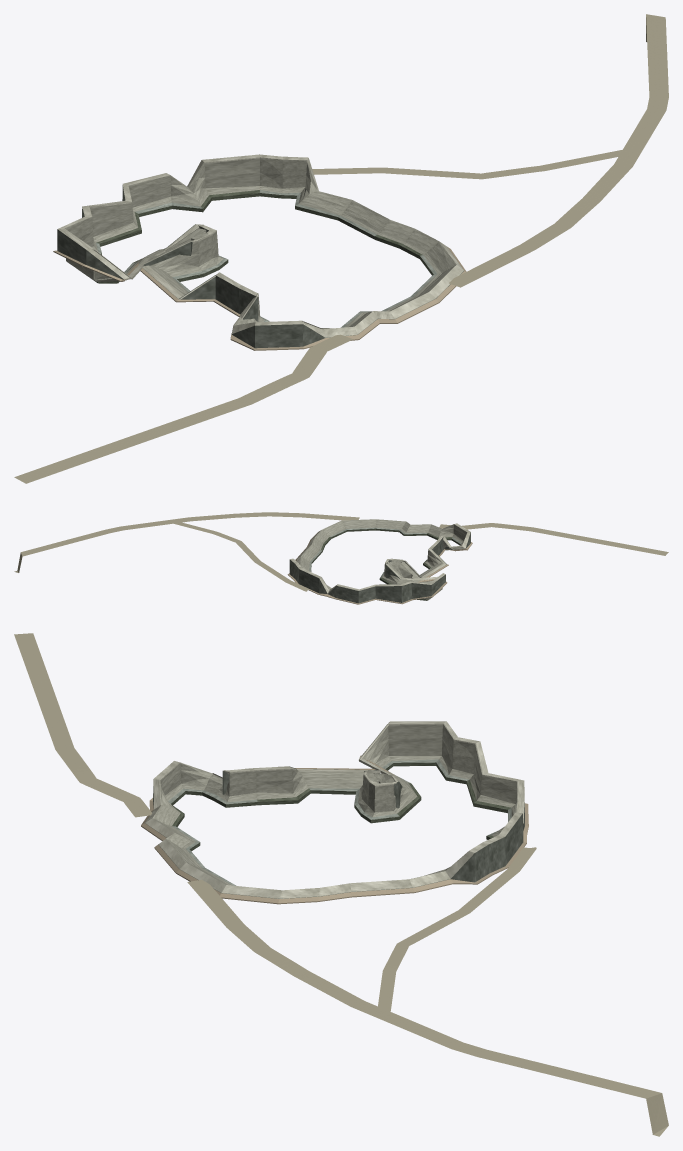
The model's file is ta-pa-mid.glb.
3 views of the same model, one above another, from view 1: azimuth 30°, elevation 25°; view 2: azimuth 150°, elevation 25°; view 3: azimuth 270°, elevation 25° (orthographic). The views are drawn at different scales.
Visible parts, largest first — view 1: ta-pa-mid; view 2: ta-pa-mid; view 3: ta-pa-mid.
Boxes of the visible parts, left/top/right/bottom form: ta-pa-mid: left=14, top=14, right=668, bottom=483; ta-pa-mid: left=14, top=512, right=668, bottom=604; ta-pa-mid: left=14, top=633, right=668, bottom=1136.
Size of the model in its own units: 285 by 19.81 by 169.
1 material, 1 textured.
